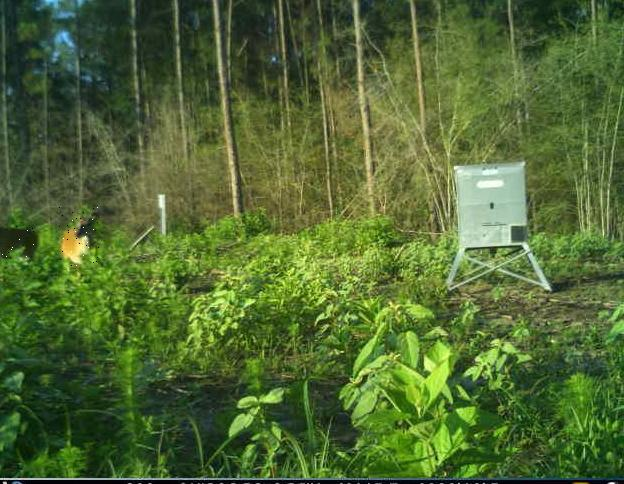Deer: (58, 207, 101, 267), (0, 222, 40, 260)
